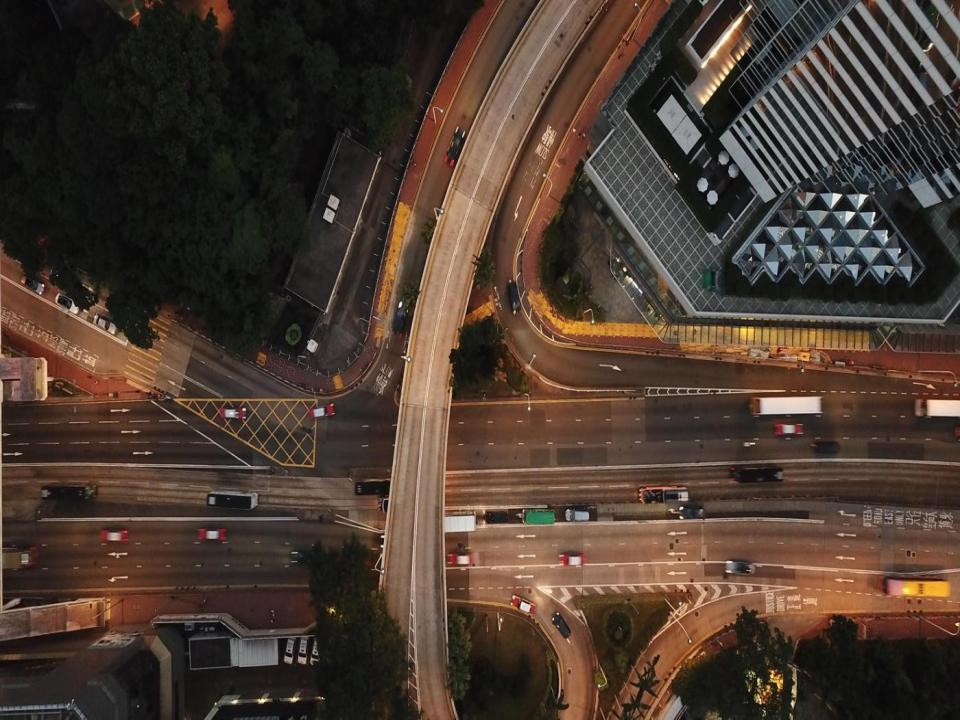bus: (879, 576, 950, 596), (638, 485, 688, 504), (206, 491, 258, 509), (41, 484, 97, 499), (353, 480, 412, 494), (435, 512, 476, 532), (730, 467, 783, 482)
car: (1, 546, 38, 570), (444, 127, 465, 166), (392, 302, 408, 338), (510, 594, 536, 615), (55, 292, 79, 314), (552, 612, 571, 639), (725, 559, 755, 576), (20, 276, 44, 296), (93, 314, 117, 334), (308, 403, 334, 419), (678, 505, 704, 520), (773, 422, 803, 435), (446, 553, 474, 566), (558, 553, 586, 566), (99, 529, 129, 541), (199, 528, 226, 541), (221, 406, 246, 419), (284, 637, 295, 664), (812, 442, 841, 452), (311, 638, 321, 666), (298, 637, 308, 663)
truck: (749, 397, 823, 415), (914, 398, 960, 417), (521, 508, 554, 524)
van: (378, 498, 411, 513), (508, 280, 521, 310), (564, 508, 589, 523), (485, 511, 509, 524)
